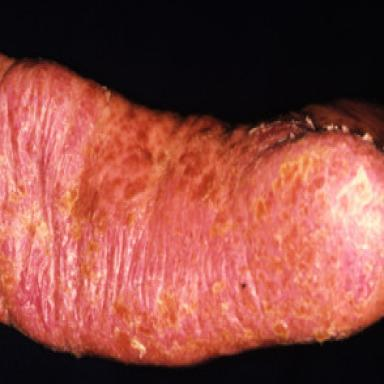eczema: (0, 63, 384, 364)
